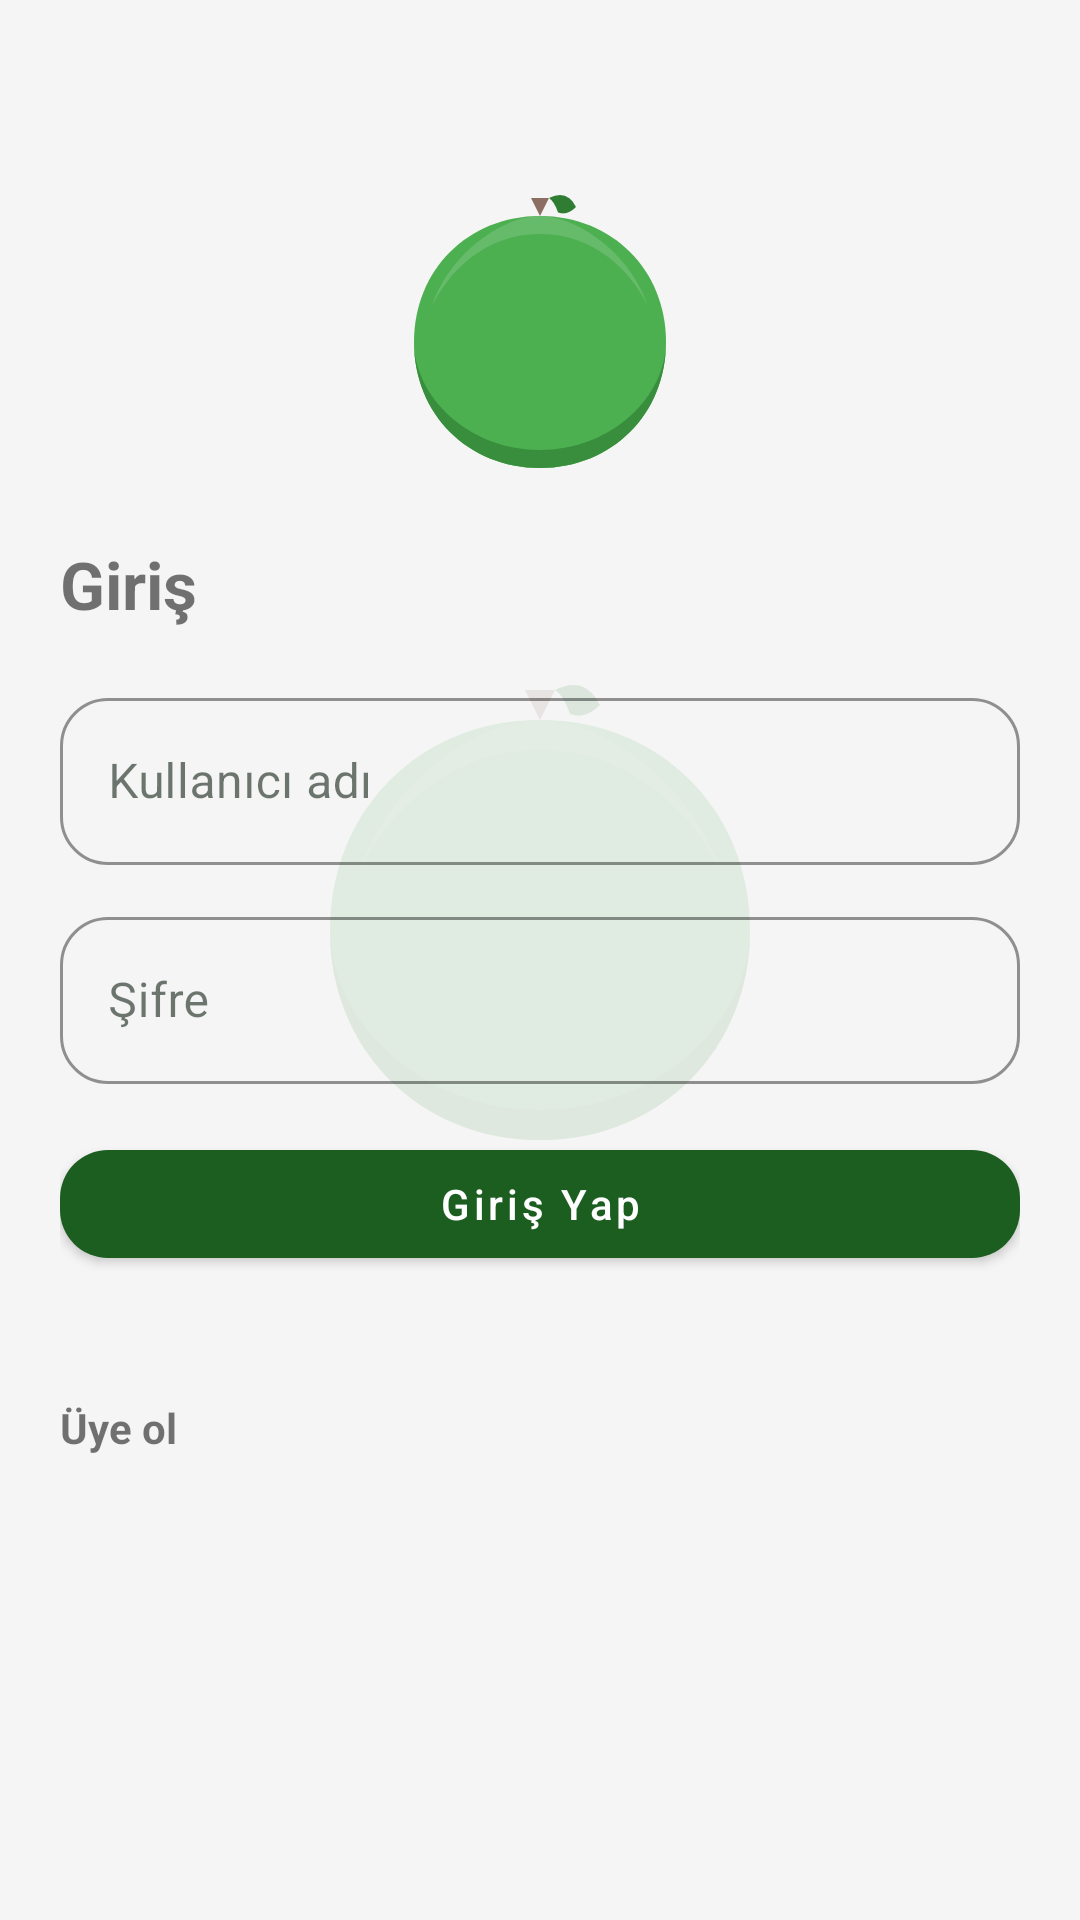

Icons on this 1080px×1920px Android screen, each with its box as (x1, y1, x2, y2):
apple: (414, 195, 666, 468)
